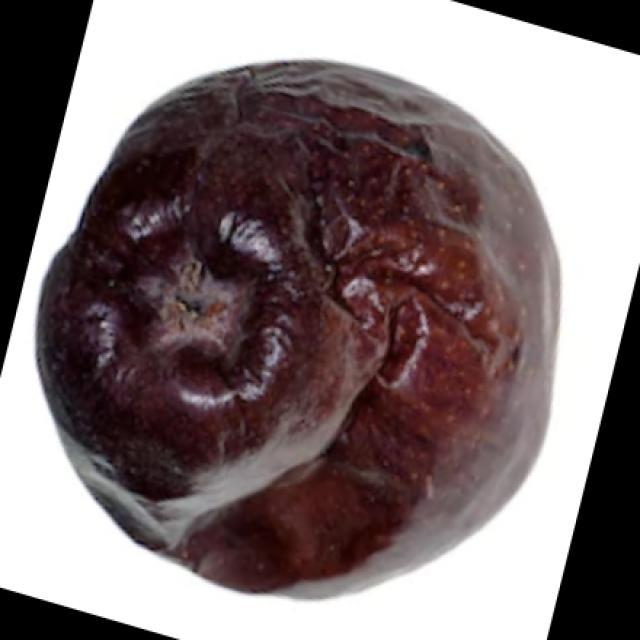Rotten: (67, 51, 580, 602)
